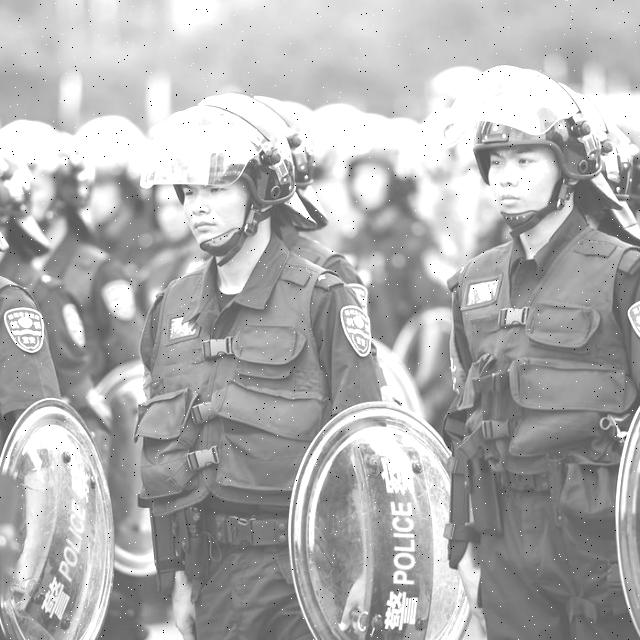police: (95, 67, 448, 640), (399, 47, 640, 640)
